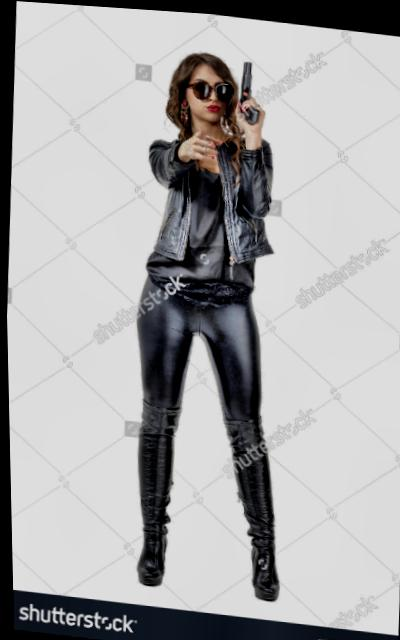pistol: (236, 55, 265, 121)
